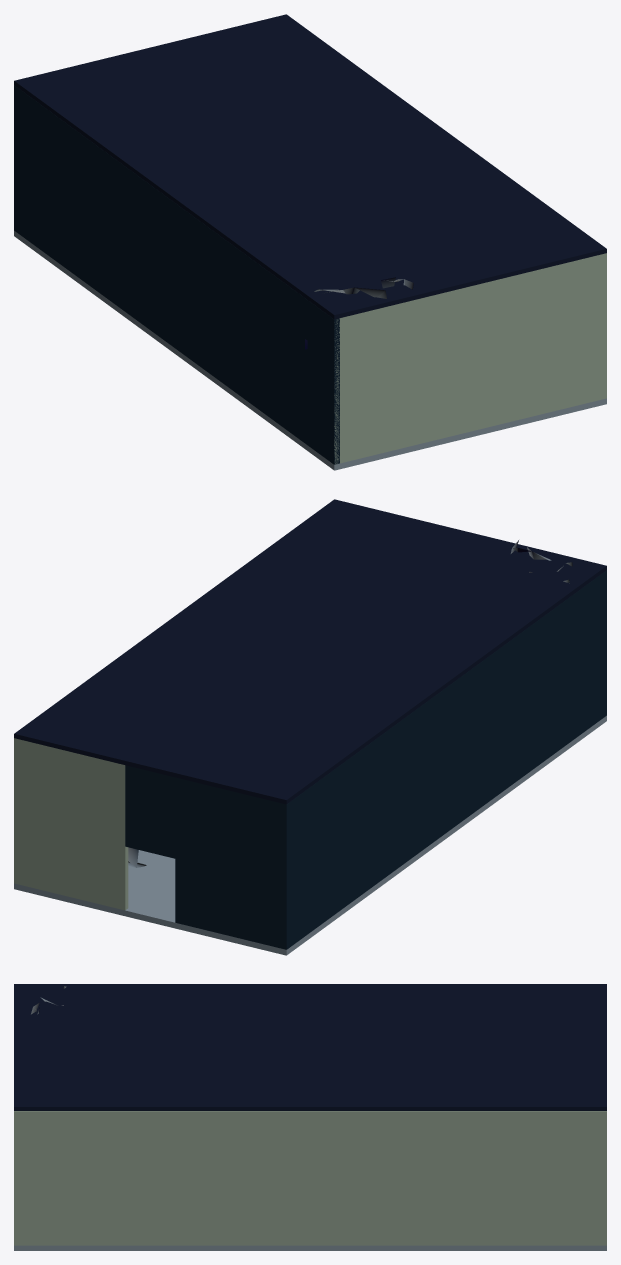
3 renders of one model, top to bottom at view 1: azimuth 30°, elevation 25°; view 2: azimuth 150°, elevation 25°; view 3: azimuth 270°, elevation 25°, orthographic. The views are drawn at different scales.
Parts seen in each view (by area): view 1: geometry_0; view 2: geometry_0; view 3: geometry_0.
Part boxes in pixels (x1,y1,x2,y2): geometry_0: [14, 14, 606, 470]; geometry_0: [14, 499, 606, 955]; geometry_0: [14, 984, 606, 1250].
Size of the model in its own units: 9.91 by 5.69 by 19.98.
